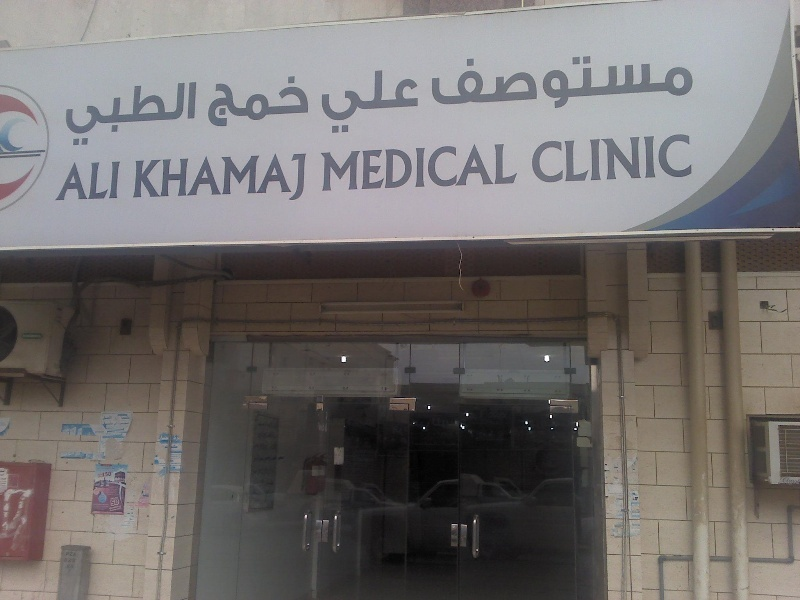text: (337, 67, 352, 137), (353, 67, 368, 137), (369, 67, 384, 137), (385, 67, 400, 137), (401, 67, 416, 137), (81, 80, 96, 149), (97, 80, 112, 149), (113, 80, 128, 149), (129, 80, 144, 149), (145, 80, 160, 149), (161, 80, 176, 149), (177, 80, 192, 149), (322, 67, 336, 137), (66, 80, 80, 149), (433, 51, 448, 115), (449, 51, 464, 115), (465, 51, 480, 115), (481, 51, 496, 115), (497, 51, 512, 115), (513, 51, 528, 115), (529, 51, 544, 115), (545, 51, 560, 115), (561, 51, 576, 115), (577, 51, 592, 115), (593, 51, 608, 115), (609, 51, 624, 115), (625, 51, 640, 115), (641, 51, 656, 115), (657, 51, 672, 115), (673, 51, 688, 115), (545, 132, 560, 187), (561, 132, 576, 187), (577, 132, 592, 187), (593, 132, 608, 187), (609, 132, 624, 187), (625, 132, 640, 187), (641, 132, 656, 187), (657, 132, 672, 187), (673, 132, 688, 187), (209, 75, 224, 129), (225, 75, 240, 129), (241, 75, 256, 129), (257, 75, 272, 129), (273, 75, 288, 129), (289, 75, 304, 129), (321, 143, 336, 196), (337, 143, 352, 196), (353, 143, 368, 196), (369, 143, 384, 196), (385, 143, 400, 196), (401, 143, 416, 196), (417, 143, 432, 196), (433, 143, 448, 196), (449, 143, 464, 196), (465, 143, 480, 196), (481, 143, 496, 196), (497, 143, 512, 196), (145, 152, 160, 204), (161, 152, 176, 204), (177, 152, 192, 204), (193, 152, 208, 204), (209, 152, 224, 204), (225, 152, 240, 204), (241, 152, 256, 204), (257, 152, 272, 204), (273, 152, 288, 204), (289, 152, 304, 204), (532, 132, 544, 187), (65, 159, 80, 202), (81, 159, 96, 202), (97, 159, 112, 202), (193, 80, 201, 149), (134, 152, 144, 204), (113, 159, 125, 202), (689, 51, 697, 115), (689, 132, 698, 187), (513, 143, 521, 196), (417, 67, 423, 137), (305, 75, 310, 129), (305, 152, 310, 204), (113, 422, 129, 428), (62, 159, 64, 202), (161, 434, 169, 443), (102, 416, 112, 422), (113, 499, 120, 507), (207, 75, 208, 129), (103, 472, 112, 478), (103, 422, 112, 428), (121, 416, 128, 421), (177, 435, 181, 443), (173, 435, 176, 443), (158, 434, 160, 443), (129, 416, 131, 421), (111, 499, 112, 507)
